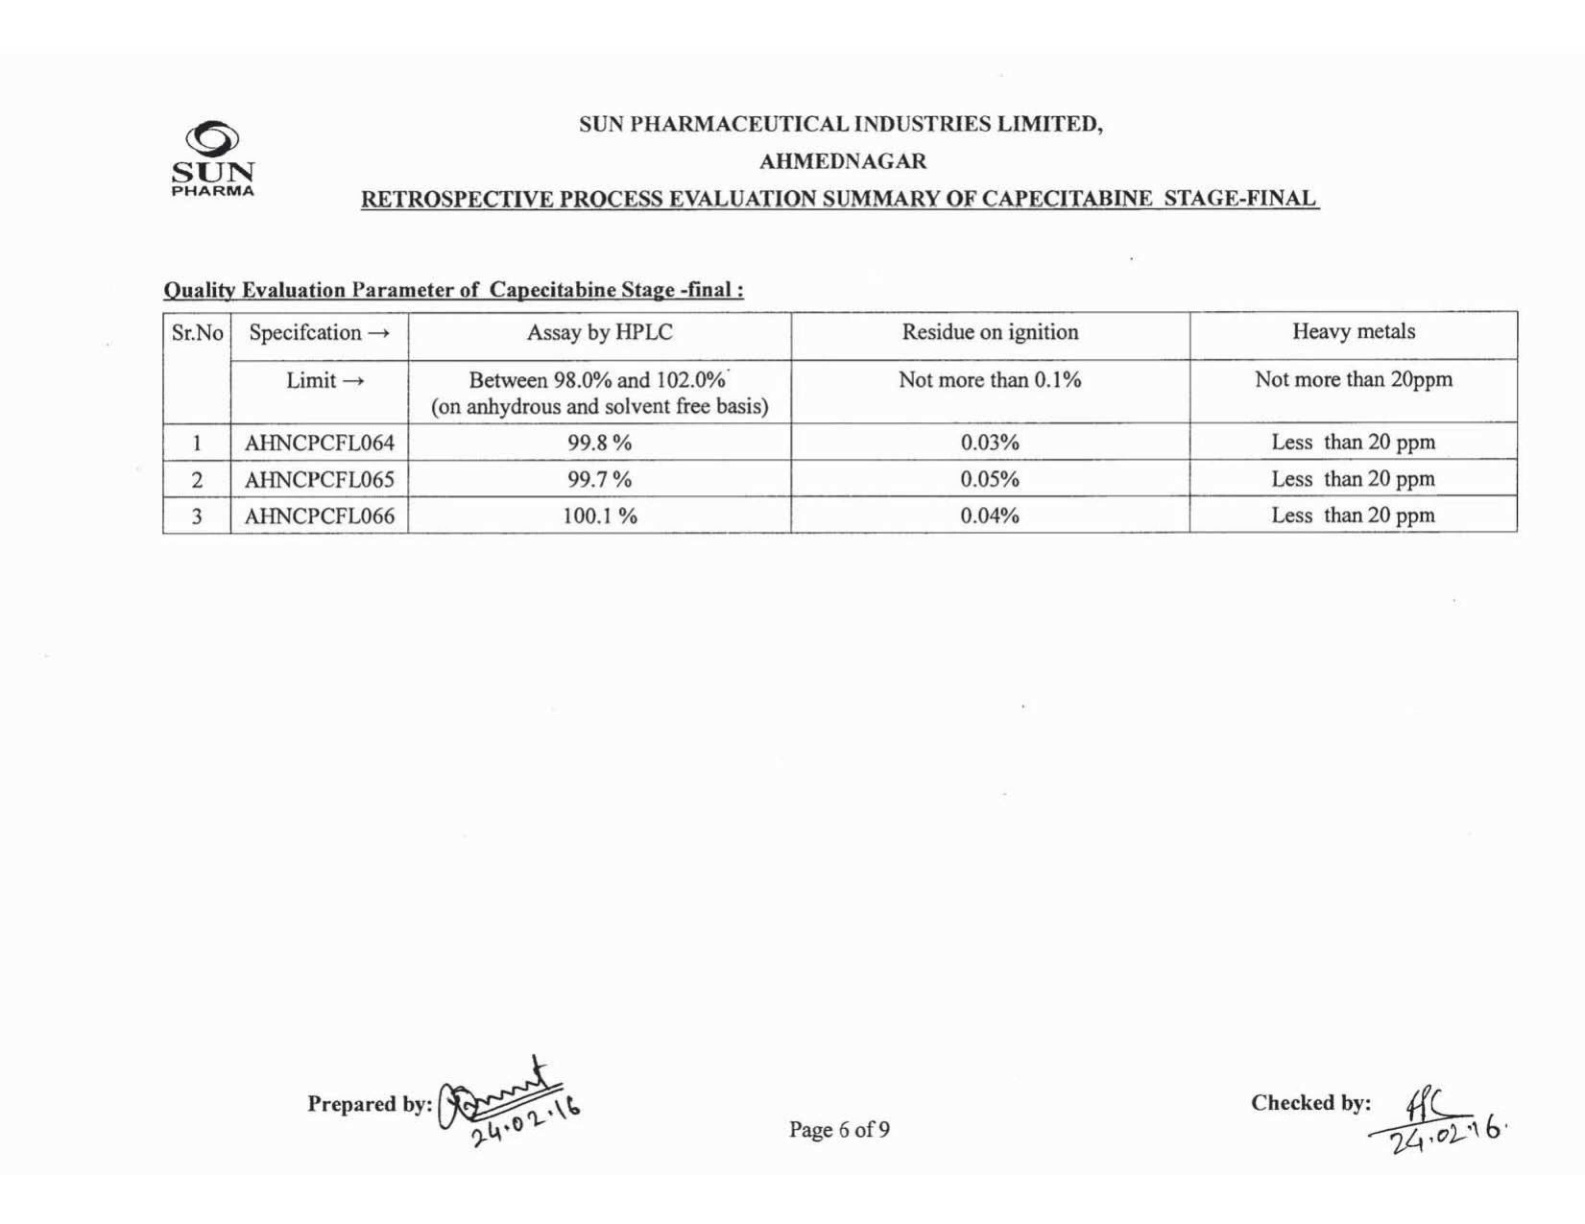merged_cells: (159, 310, 1519, 534)
